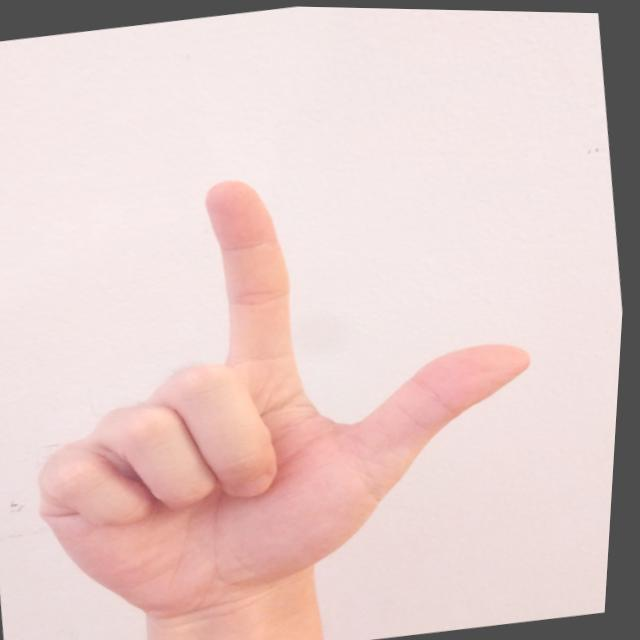L: (0, 128, 586, 639)
